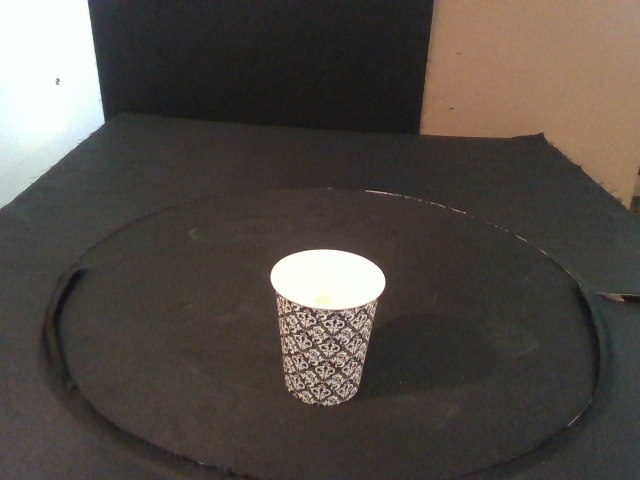glass: (270, 249, 386, 407)
